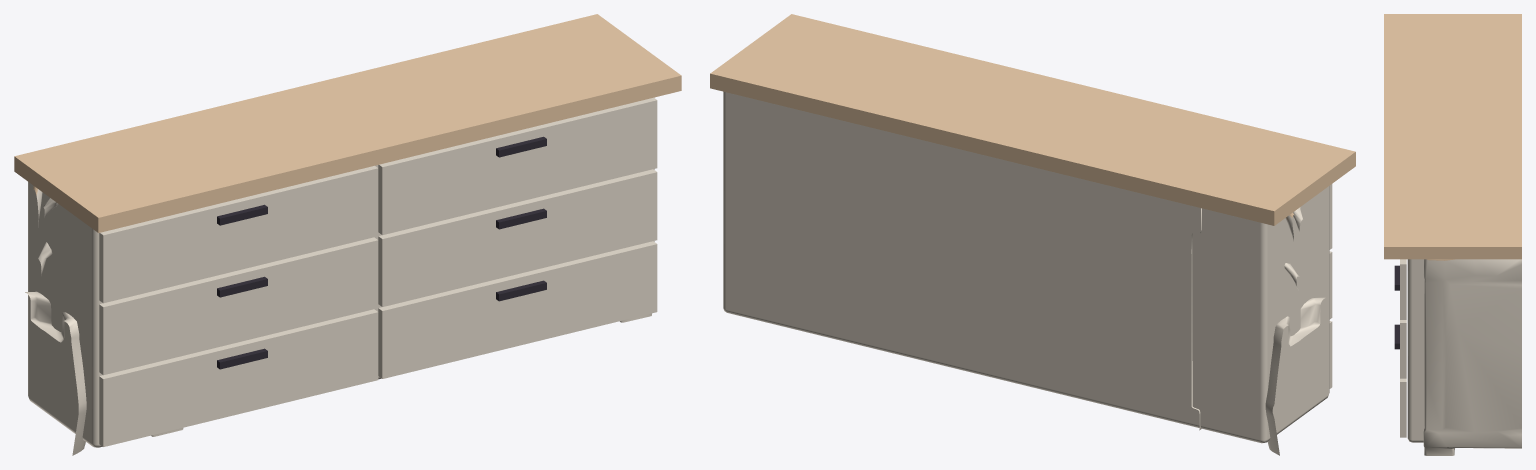
File: show_bedroom_dresser.glb
3 renders of one model, left to right at view 1: azimuth 30°, elevation 25°; view 2: azimuth 150°, elevation 25°; view 3: azimuth 270°, elevation 25°, orthographic. The views are drawn at different scales.
Bounding box in the file's own units: 2.8 × 1.18 × 0.7.
